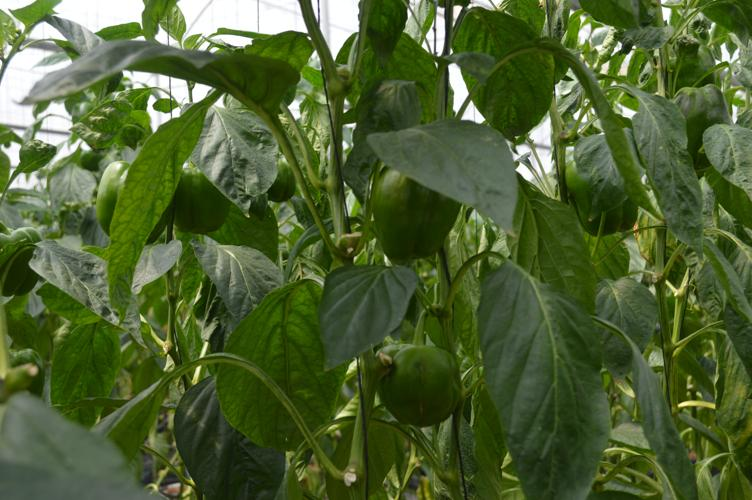BellPepper: (366, 169, 453, 260), (372, 344, 457, 427), (92, 163, 164, 245), (566, 157, 635, 238), (680, 82, 726, 173), (176, 170, 233, 235), (11, 226, 48, 297), (266, 165, 301, 207)
